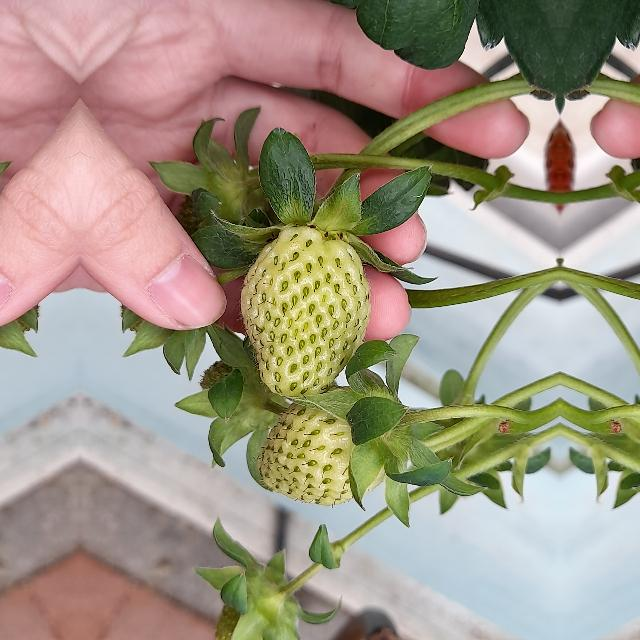Health_25: (240, 226, 370, 398), (258, 391, 404, 505)
